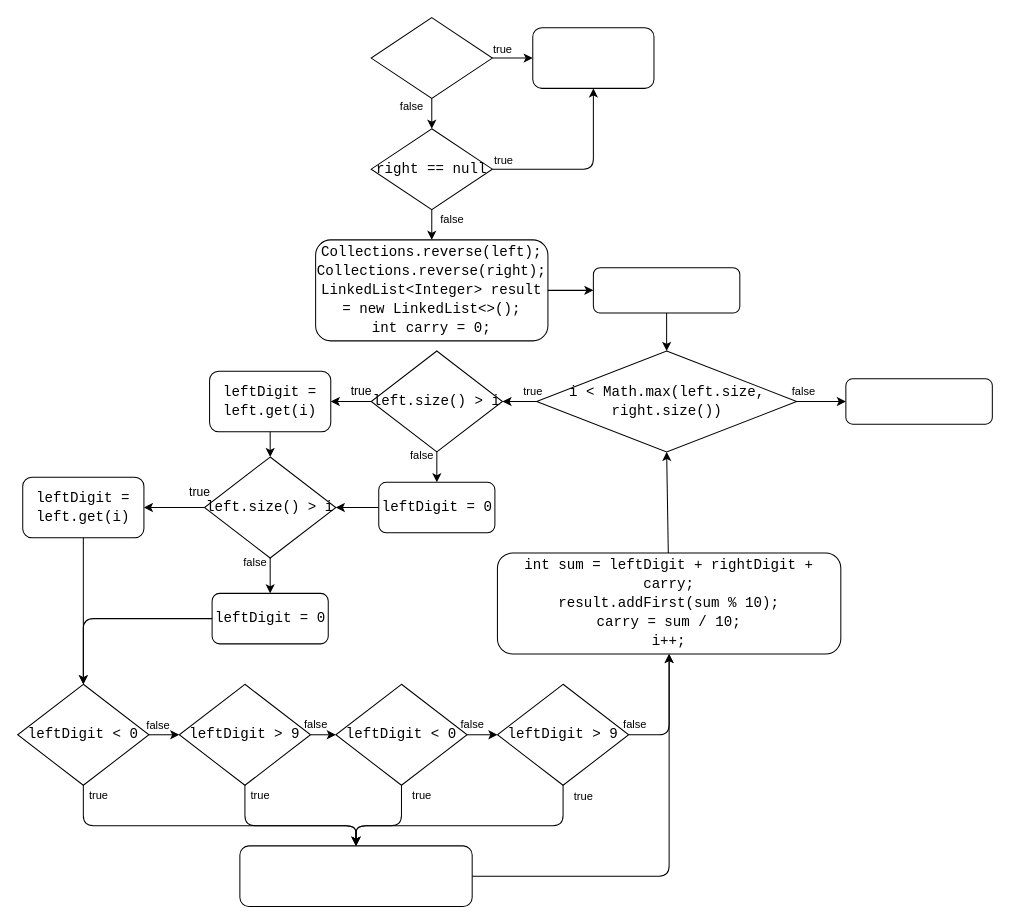
The diagram is 1010 pixels wide and 924 high, and some of its shapes have lost their labels. Each missing label, with the box of its shape:
for ( int i = 0 ;): (592, 267, 740, 313)
left == null: (370, 17, 492, 98)
return null: (532, 27, 654, 88)
return result;: (845, 378, 992, 424)
throw new IllegalArgumentException();: (239, 845, 472, 906)
